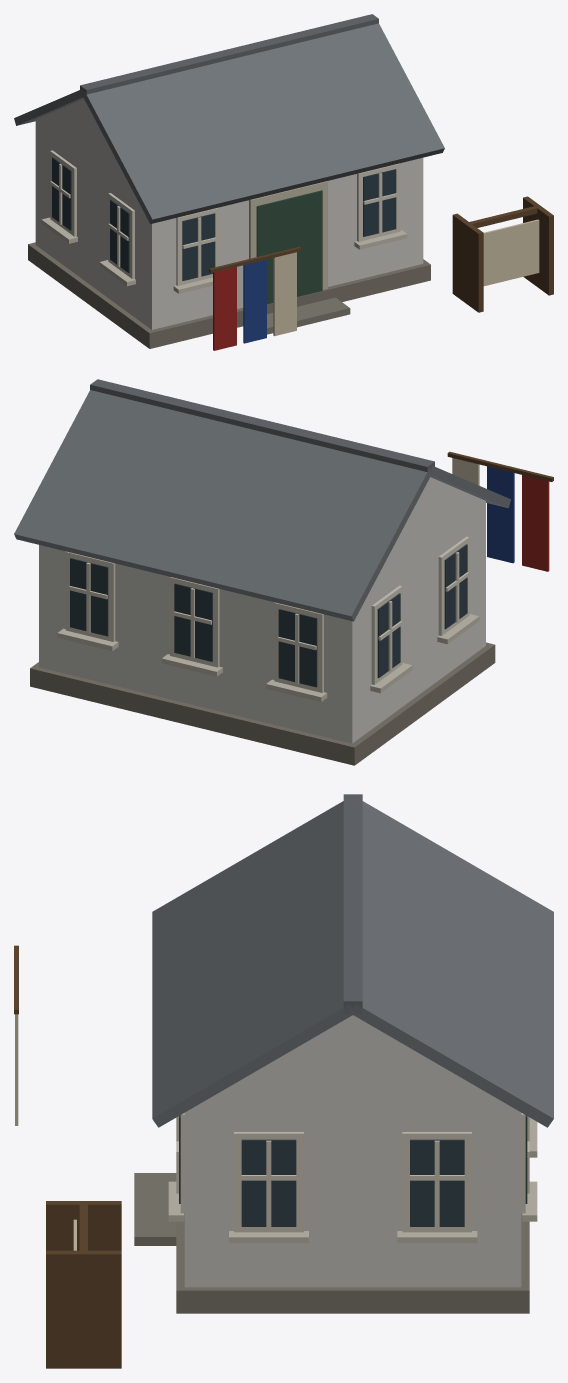
Rendered from procedural_silk_weaver@6.glb.
3 views of the same model, one above another, from view 1: azimuth 30°, elevation 25°; view 2: azimuth 150°, elevation 25°; view 3: azimuth 270°, elevation 25° (orthographic). The views are drawn at different scales.
Parts seen in each view (by area): view 1: part_0; view 2: part_0; view 3: part_0.
Part boxes in pixels (x1,y1,x2,y2): part_0: [14, 14, 553, 350]; part_0: [14, 379, 553, 765]; part_0: [14, 794, 553, 1368].
Bounding box in the file's own units: 7.26 × 4.15 × 6.42.
